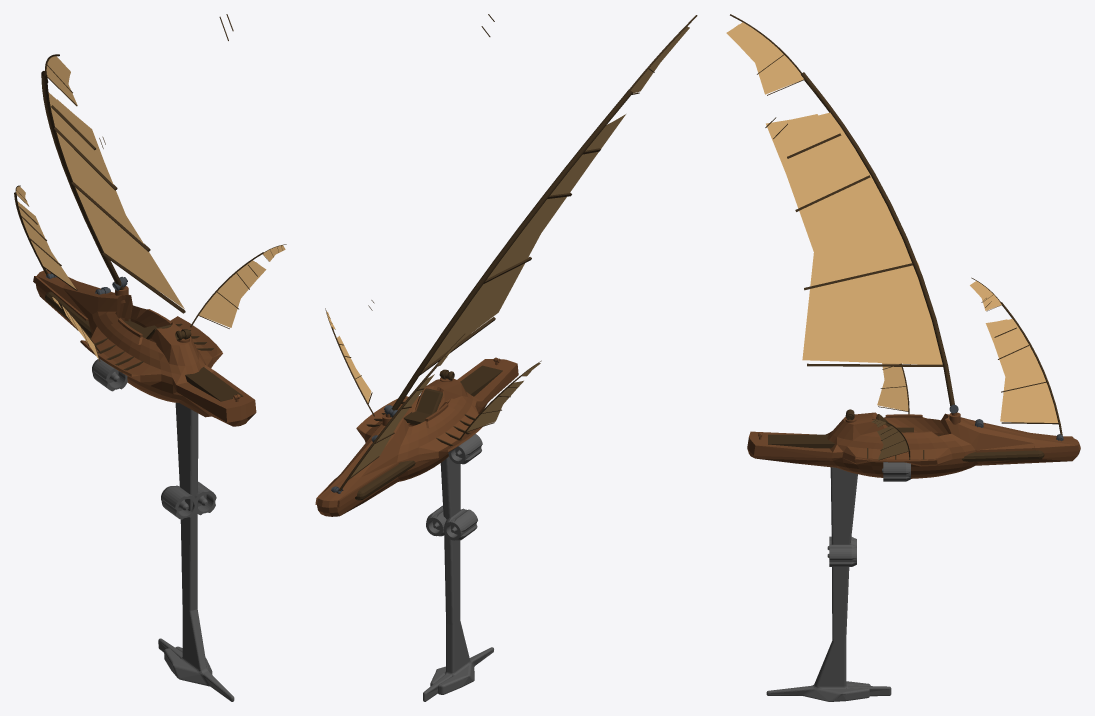
The model's file is dune_foil_rig.fbx.
The picture shows the model from 3 angles, left to right: view 1: azimuth 30°, elevation 25°; view 2: azimuth 150°, elevation 25°; view 3: azimuth 270°, elevation 25°; orthographic projection. The views are drawn at different scales.
Visible parts, largest first — view 1: Hull_Shell, Main_Cloth_00, Foil_Blade, WingS_Cloth_00, Main_Post, Jib_Cloth_00, Deck_Fitting_00, Foil_Fairing_01, Deck_Fitting_11, Main_Cloth_01, Foil_Fairing_02, Deck_Fitting_08; view 2: Hull_Shell, Main_Cloth_00, Foil_Blade, Main_Post, Jib_Cloth_00, Foil_Fairing_01, Station_MastRake, Deck_Fitting_08, Deck_Fitting_00, WingP_Cloth_00, Deck_Fitting_11; view 3: Main_Cloth_00, Hull_Shell, Foil_Blade, Jib_Cloth_00, Main_Cloth_01, Main_Post, WingP_Cloth_00, Deck_Fitting_00, Deck_Fitting_08, WingS_Cloth_00, Foil_Fairing_02, Deck_Fitting_12.
Part boxes in pixels (bbox=[...]): Hull_Shell: bbox=[33, 270, 256, 426]; Main_Cloth_00: bbox=[48, 92, 184, 308]; Foil_Blade: bbox=[158, 402, 234, 701]; WingS_Cloth_00: bbox=[199, 260, 266, 327]; Main_Post: bbox=[41, 71, 123, 289]; Jib_Cloth_00: bbox=[17, 201, 76, 289]; Deck_Fitting_00: bbox=[185, 367, 243, 401]; Foil_Fairing_01: bbox=[161, 485, 196, 519]; Deck_Fitting_11: bbox=[92, 358, 127, 391]; Main_Cloth_01: bbox=[46, 56, 77, 105]; Foil_Fairing_02: bbox=[193, 481, 216, 515]; Deck_Fitting_08: bbox=[45, 291, 91, 337]; Hull_Shell: bbox=[315, 359, 518, 516]; Main_Cloth_00: bbox=[424, 114, 625, 368]; Foil_Blade: bbox=[423, 456, 493, 701]; Main_Post: bbox=[390, 89, 632, 417]; Jib_Cloth_00: bbox=[350, 374, 434, 477]; Foil_Fairing_01: bbox=[443, 508, 477, 540]; Station_MastRake: bbox=[403, 388, 442, 424]; Deck_Fitting_08: bbox=[355, 460, 415, 500]; Deck_Fitting_00: bbox=[460, 365, 502, 396]; WingP_Cloth_00: bbox=[467, 380, 523, 431]; Deck_Fitting_11: bbox=[448, 434, 482, 464]; Main_Cloth_00: bbox=[766, 112, 942, 364]; Hull_Shell: bbox=[747, 412, 1080, 478]; Foil_Blade: bbox=[766, 467, 891, 701]; Jib_Cloth_00: bbox=[985, 319, 1058, 422]; Main_Cloth_01: bbox=[726, 22, 803, 94]; Main_Post: bbox=[801, 72, 954, 414]; WingP_Cloth_00: bbox=[877, 363, 908, 411]; Deck_Fitting_00: bbox=[768, 434, 834, 448]; Deck_Fitting_08: bbox=[961, 450, 1044, 461]; WingS_Cloth_00: bbox=[877, 426, 908, 459]; Foil_Fairing_02: bbox=[827, 544, 856, 566]; Deck_Fitting_12: bbox=[882, 462, 910, 481].
Size of the model in its own units: 16.68 by 36.27 by 19.41.
